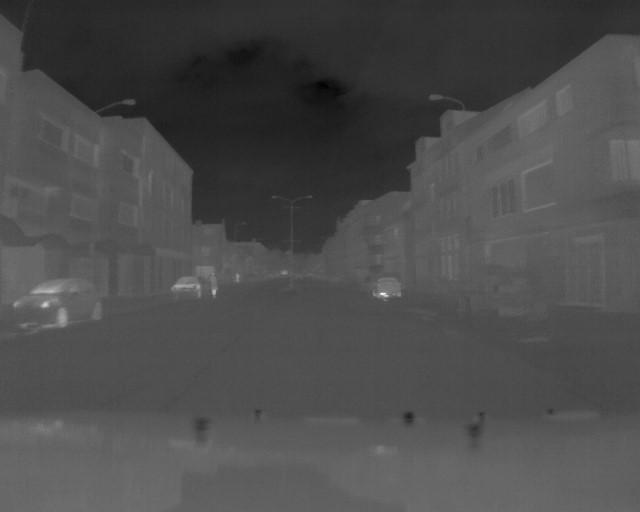car: (11, 278, 108, 331), (371, 274, 405, 302), (171, 275, 202, 304)
person: (210, 273, 218, 304)
